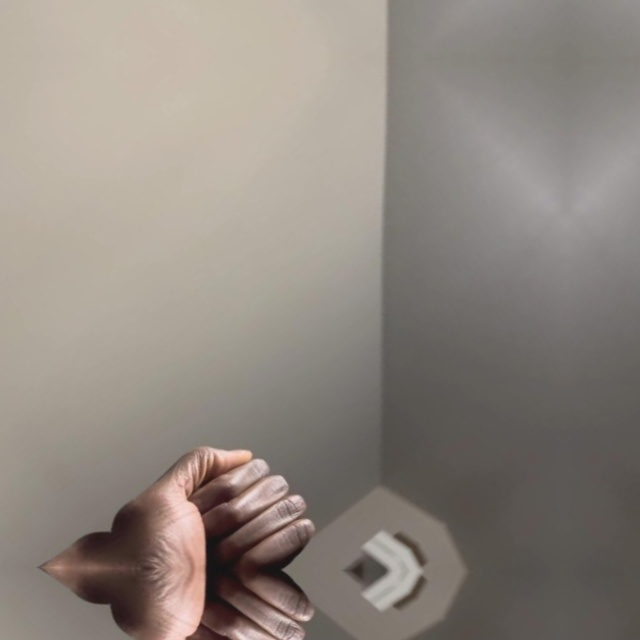Rock: (94, 412, 355, 571)
